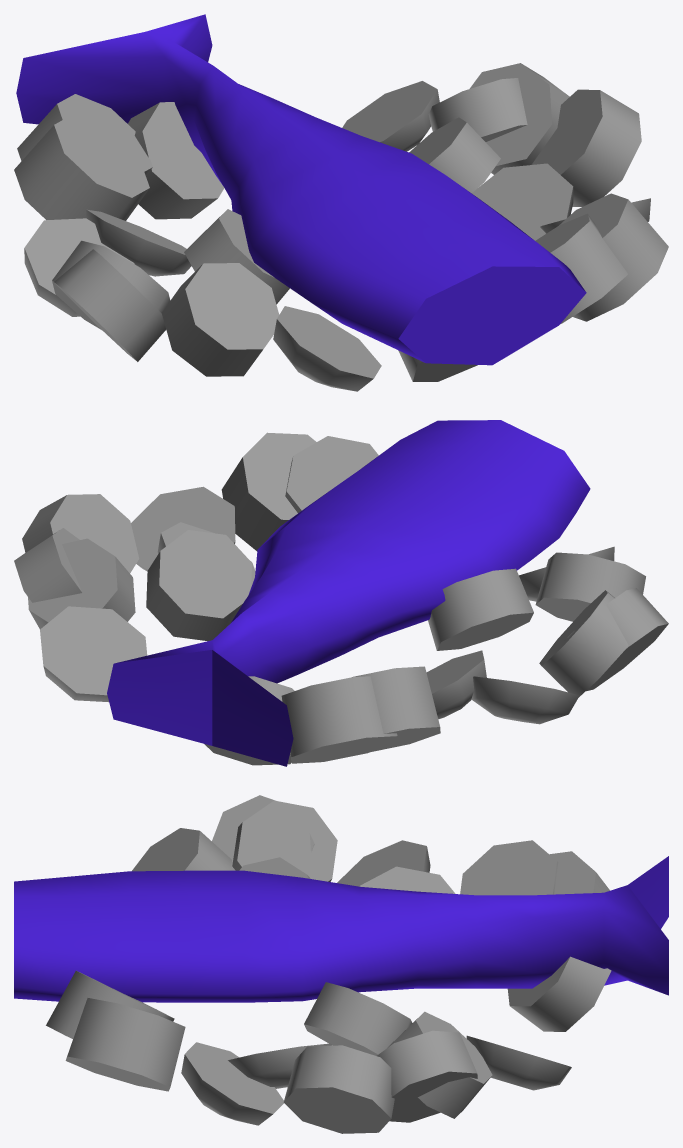
Rendered from Comida_cocinada.FBX.
The picture shows the model from 3 angles, top to bottom: view 1: azimuth 30°, elevation 25°; view 2: azimuth 150°, elevation 25°; view 3: azimuth 270°, elevation 25°; orthographic projection. The views are drawn at different scales.
Visible parts, largest first — view 1: ZanahoriaCocinada, PescadoCocinado; view 2: ZanahoriaCocinada, PescadoCocinado; view 3: PescadoCocinado, ZanahoriaCocinada.
Part boxes in pixels (box(x1,y1,x2,y2)): ZanahoriaCocinada: box(14, 63, 668, 391); PescadoCocinado: box(16, 14, 586, 365); ZanahoriaCocinada: box(14, 432, 668, 765); PescadoCocinado: box(107, 420, 590, 766); PescadoCocinado: box(14, 856, 668, 1002); ZanahoriaCocinada: box(46, 795, 611, 1133).
Size of the model in its own units: 3.48 by 0.8396 by 3.42.
